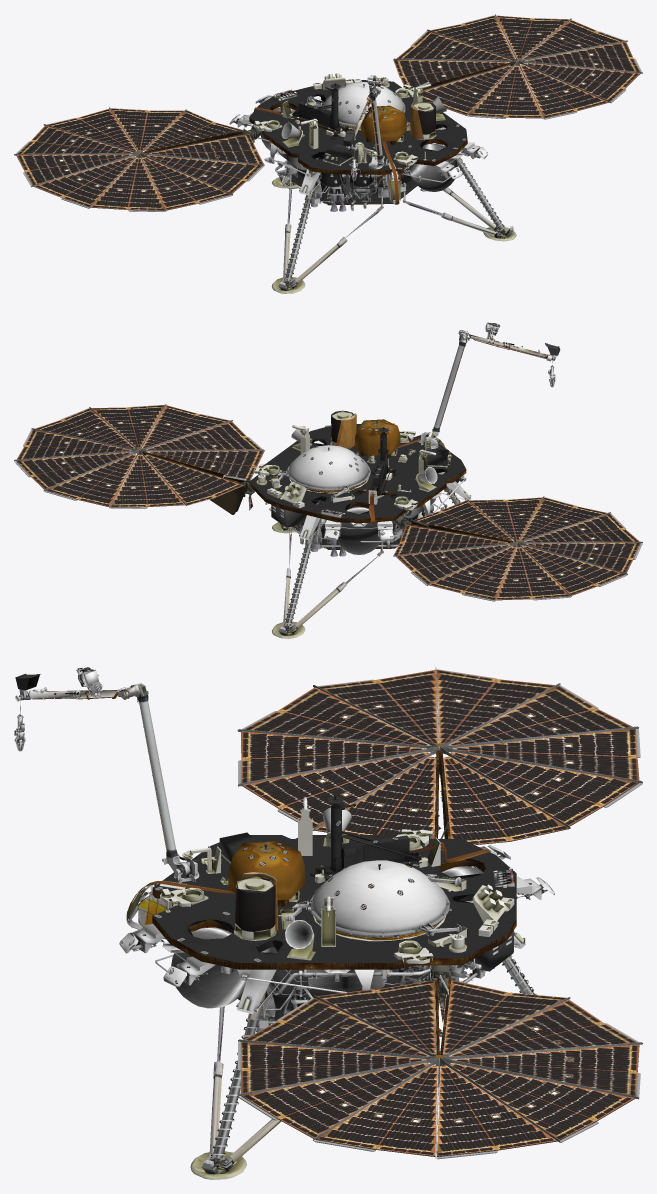
Rendered from insight.glb.
3 views of the same model, one above another, from view 1: azimuth 30°, elevation 25°; view 2: azimuth 150°, elevation 25°; view 3: azimuth 270°, elevation 25° (orthographic). The views are drawn at different scales.
Visible parts, largest first — view 1: deck, SEIS, Cube.079, arm_01, cable_02; view 2: deck, SEIS, Cube.079, arm_01; view 3: deck, SEIS, Cube.079, arm_01, cable_02.
Part boxes in pixels (x1,y1,x2,y2): deck: [14, 14, 642, 293]; SEIS: [308, 75, 409, 203]; Cube.079: [393, 59, 507, 89]; arm_01: [343, 77, 388, 180]; cable_02: [286, 84, 398, 204]; deck: [14, 404, 642, 638]; SEIS: [274, 323, 551, 497]; Cube.079: [145, 454, 243, 505]; arm_01: [420, 322, 560, 447]; deck: [119, 667, 642, 1179]; SEIS: [27, 667, 462, 938]; Cube.079: [443, 980, 566, 1054]; arm_01: [14, 667, 198, 882]; cable_02: [32, 690, 443, 940].
Bounding box in the file's own units: 6.14 × 2.17 × 3.33.
Materials: 11 (11 with a texture image).
